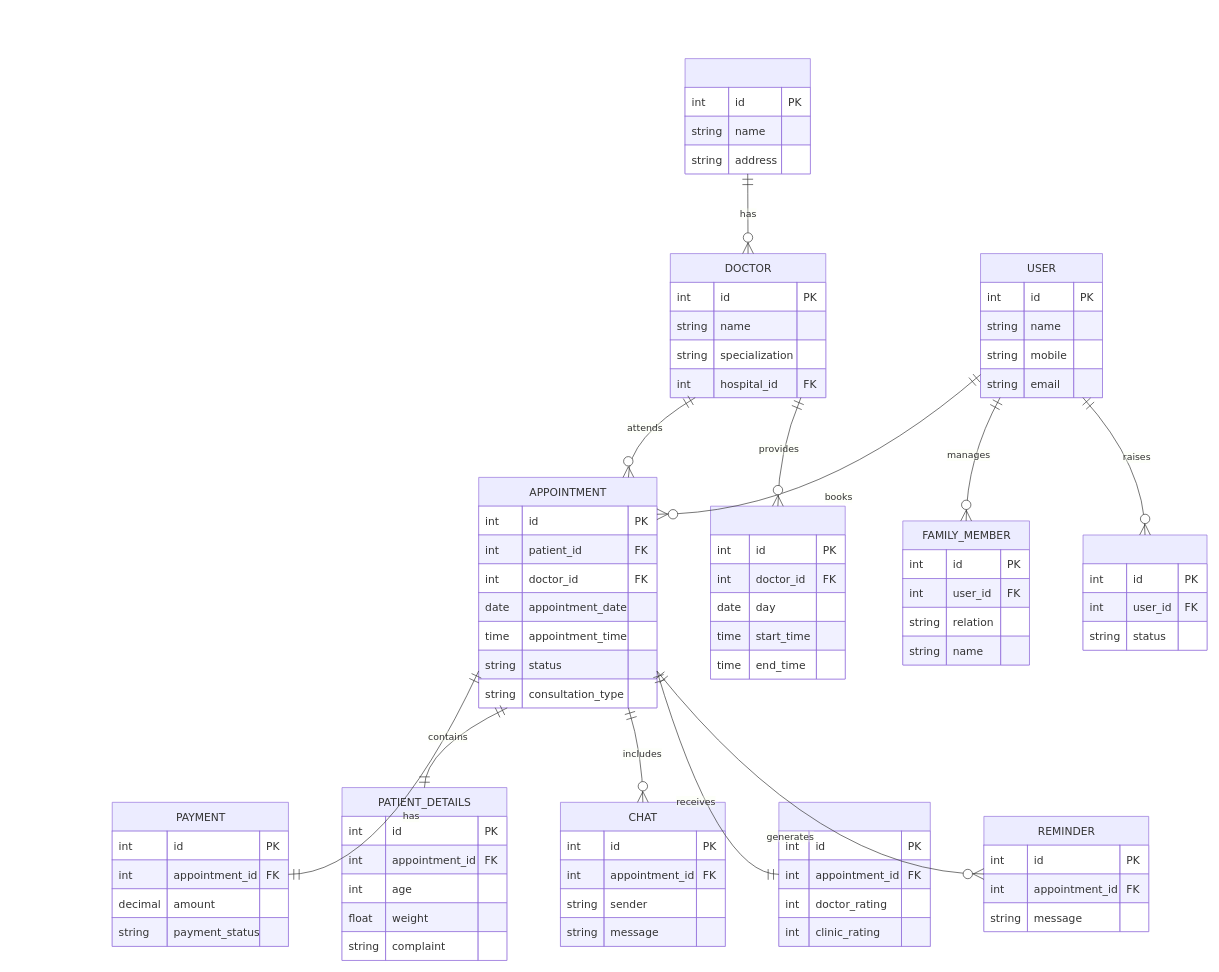
The diagram is 1219 pixels wide and 972 high, and some of its shapes have lost their labels. The box of each missing label's shape, as (x1, y1, x2, y2) in pixels:
AVAILABILITY: (710, 506, 845, 679)
FEEDBACK: (778, 802, 930, 946)
HOSPITAL: (684, 58, 810, 174)
SUPPORT_TICKET: (1082, 534, 1207, 650)
